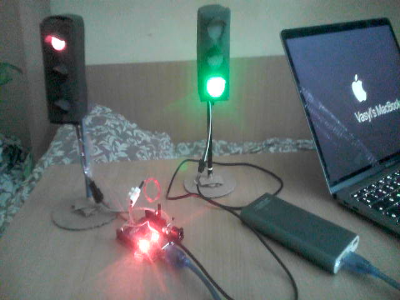trafficlight_green: (199, 9, 230, 99)
trafficlight_red: (40, 21, 81, 123)
